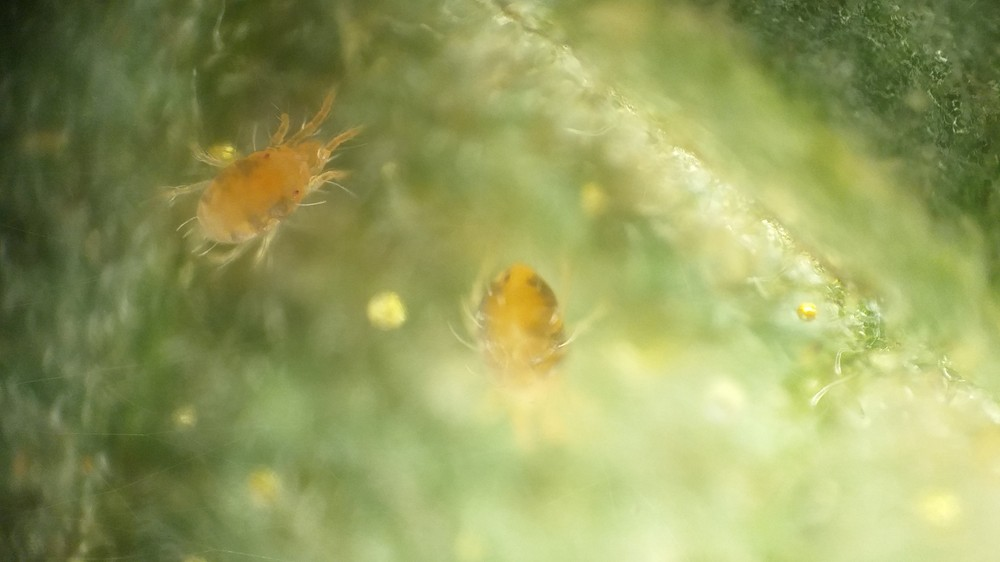Aracnido Rojo: (152, 80, 380, 286), (440, 239, 599, 481)
